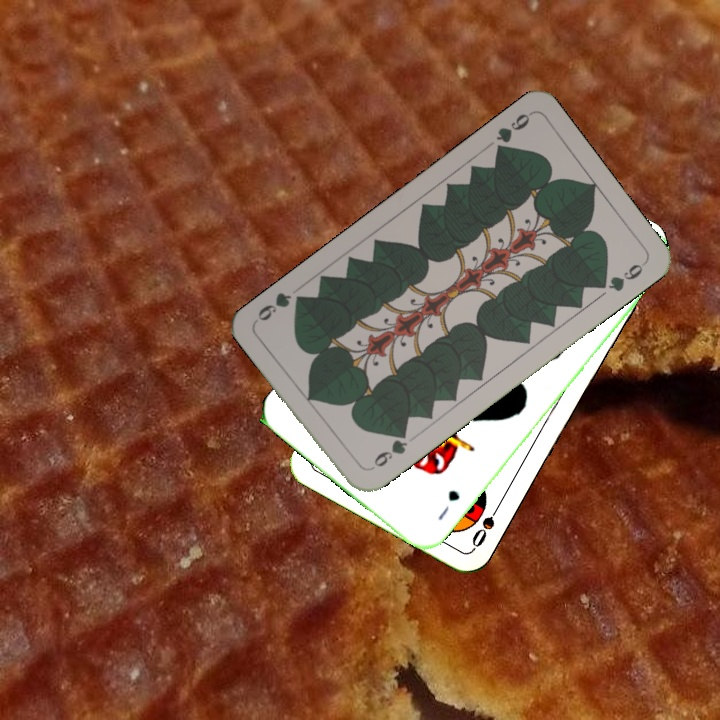G9: (364, 426, 411, 474), (491, 108, 534, 158)
GU: (433, 486, 463, 523)
SO: (467, 497, 505, 551)
